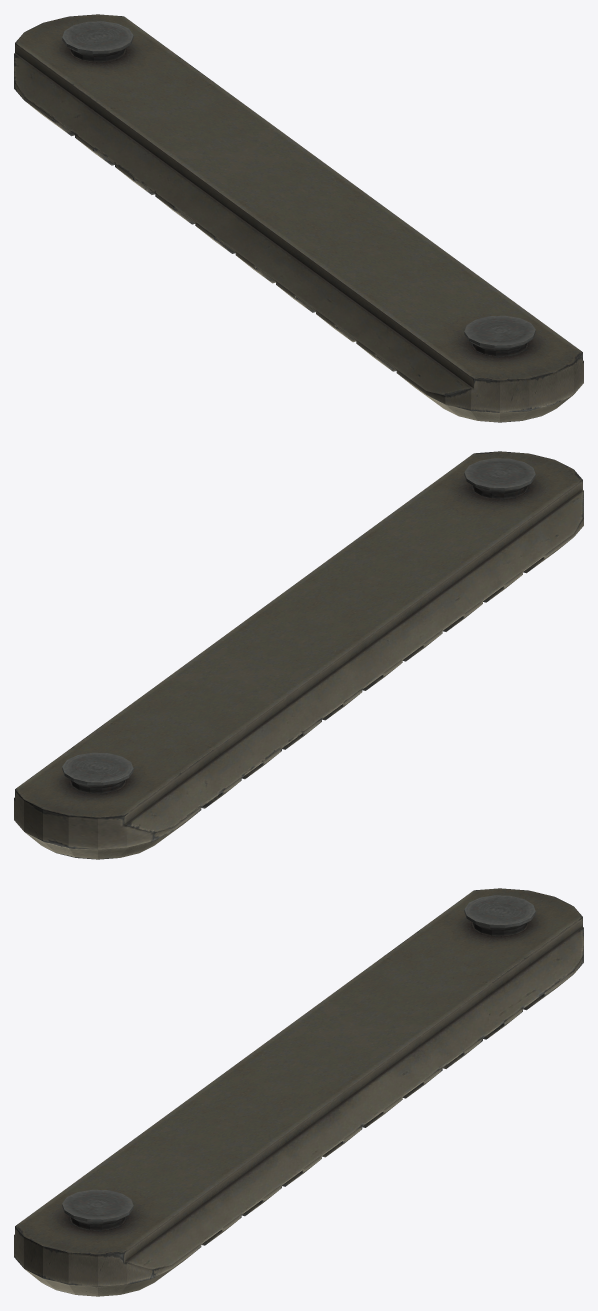
3 renders of one model, top to bottom at view 1: azimuth 30°, elevation 25°; view 2: azimuth 150°, elevation 25°; view 3: azimuth 330°, elevation 25°, orthographic.
Parts seen in each view (by area): view 1: TW_623c2f4242aee3103f1c44b7_PZ_Import; view 2: TW_623c2f4242aee3103f1c44b7_PZ_Import; view 3: TW_623c2f4242aee3103f1c44b7_PZ_Import.
Boxes of the visible parts, left/top/right/bottom form: TW_623c2f4242aee3103f1c44b7_PZ_Import: left=14, top=14, right=583, bottom=422; TW_623c2f4242aee3103f1c44b7_PZ_Import: left=14, top=451, right=583, bottom=859; TW_623c2f4242aee3103f1c44b7_PZ_Import: left=14, top=888, right=583, bottom=1296.
Bounding box in the file's own units: 0.0123 × 0.0699 × 0.00553.
Materials: 1 (1 with a texture image).
